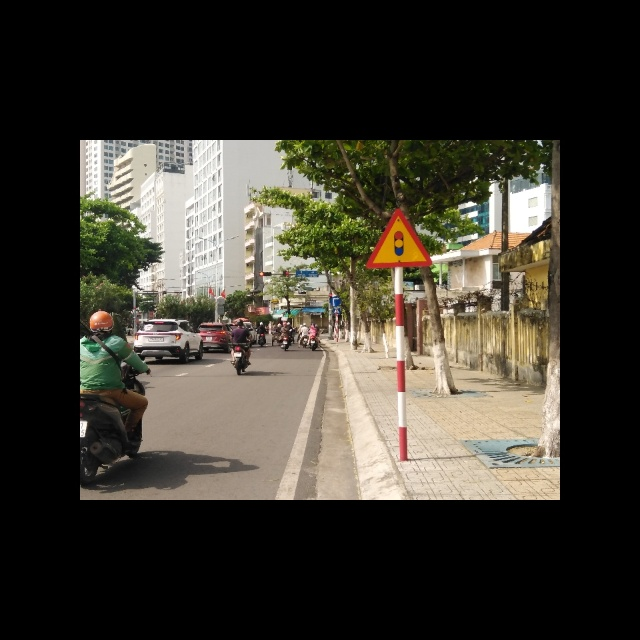Giao nhau có tín hiệu đèn: (366, 205, 433, 270)
